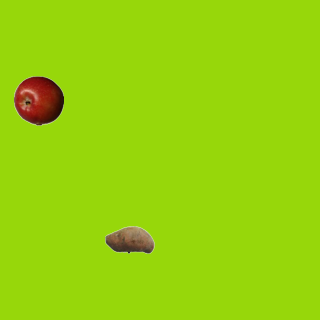Apple Braeburn: (13, 75, 63, 125)
Potato Sweet: (104, 214, 154, 264)
